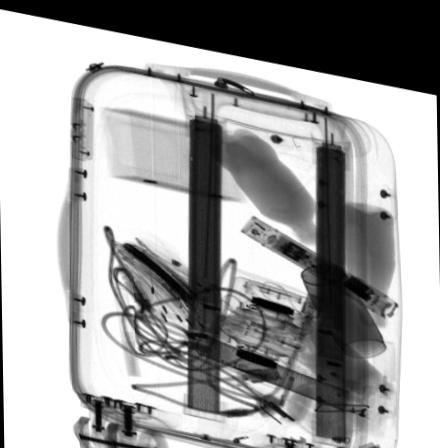Baton: (241, 202, 399, 300)
